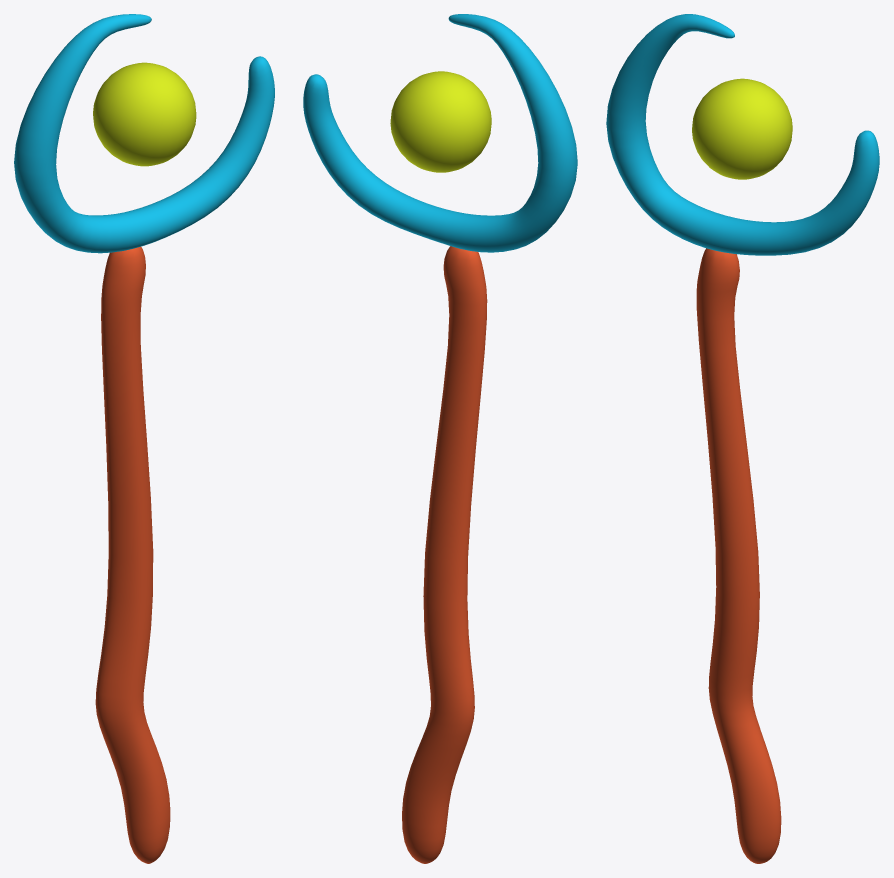
The model's file is Staff.fbx.
3 views of the same model, side by side, from view 1: azimuth 30°, elevation 25°; view 2: azimuth 150°, elevation 25°; view 3: azimuth 330°, elevation 25° (orthographic). The views are drawn at different scales.
Parts seen in each view (by area): view 1: Cylinder; view 2: Cylinder; view 3: Cylinder.
Part boxes in pixels (<box>): Cylinder: <box>14,14,274,863</box>; Cylinder: <box>303,14,577,863</box>; Cylinder: <box>606,14,879,863</box>.
Bounding box in the file's own units: 59.19 × 184 × 20.
